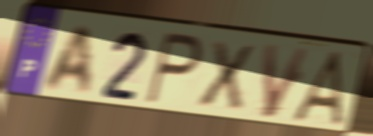2: (96, 26, 153, 104)
A: (288, 49, 348, 130), (41, 23, 94, 96)
P: (143, 29, 206, 108)
V: (261, 42, 313, 121)
X: (195, 39, 257, 112)
